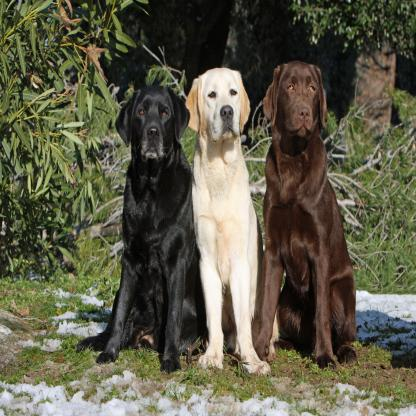dog: (74, 88, 207, 374), (257, 60, 357, 364), (193, 67, 278, 379)
